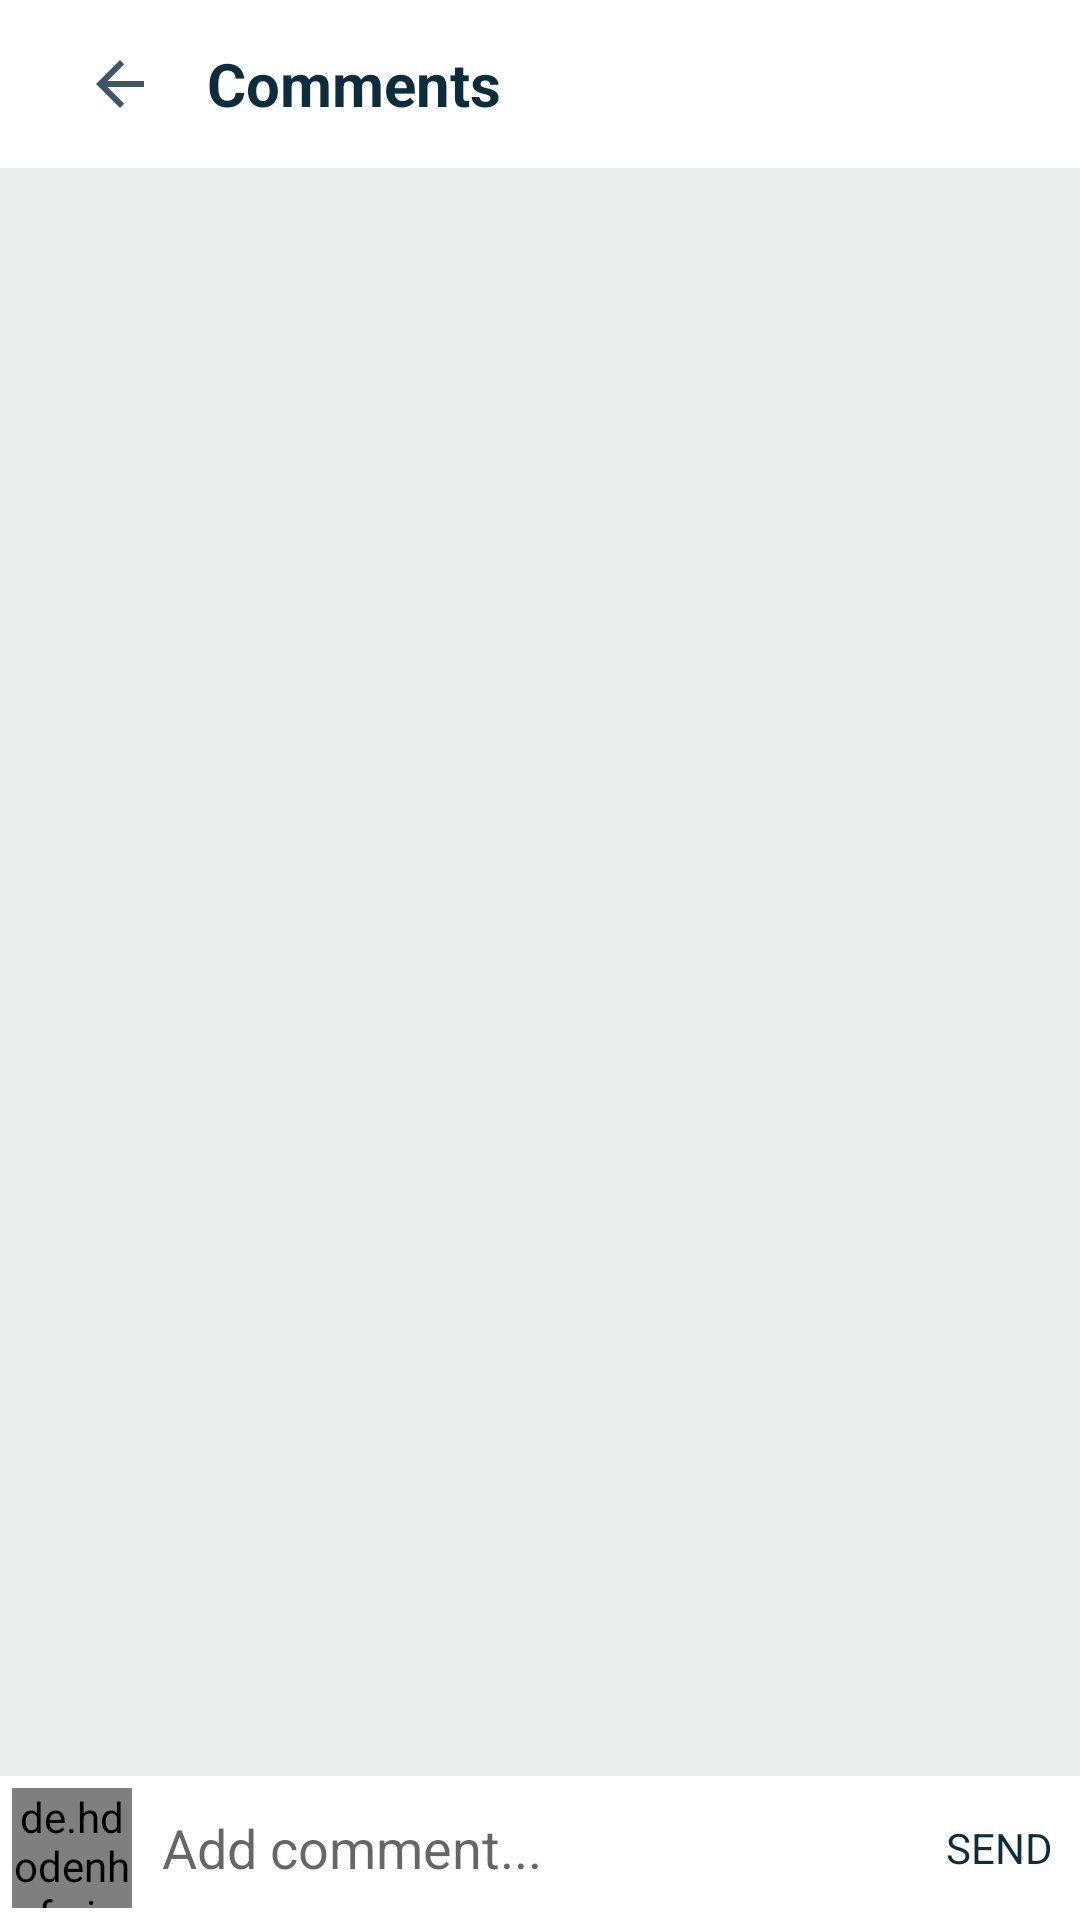

Where to tap for icons on this 1080 x 1920 app screen, as (x,y):
back: (120,84)
